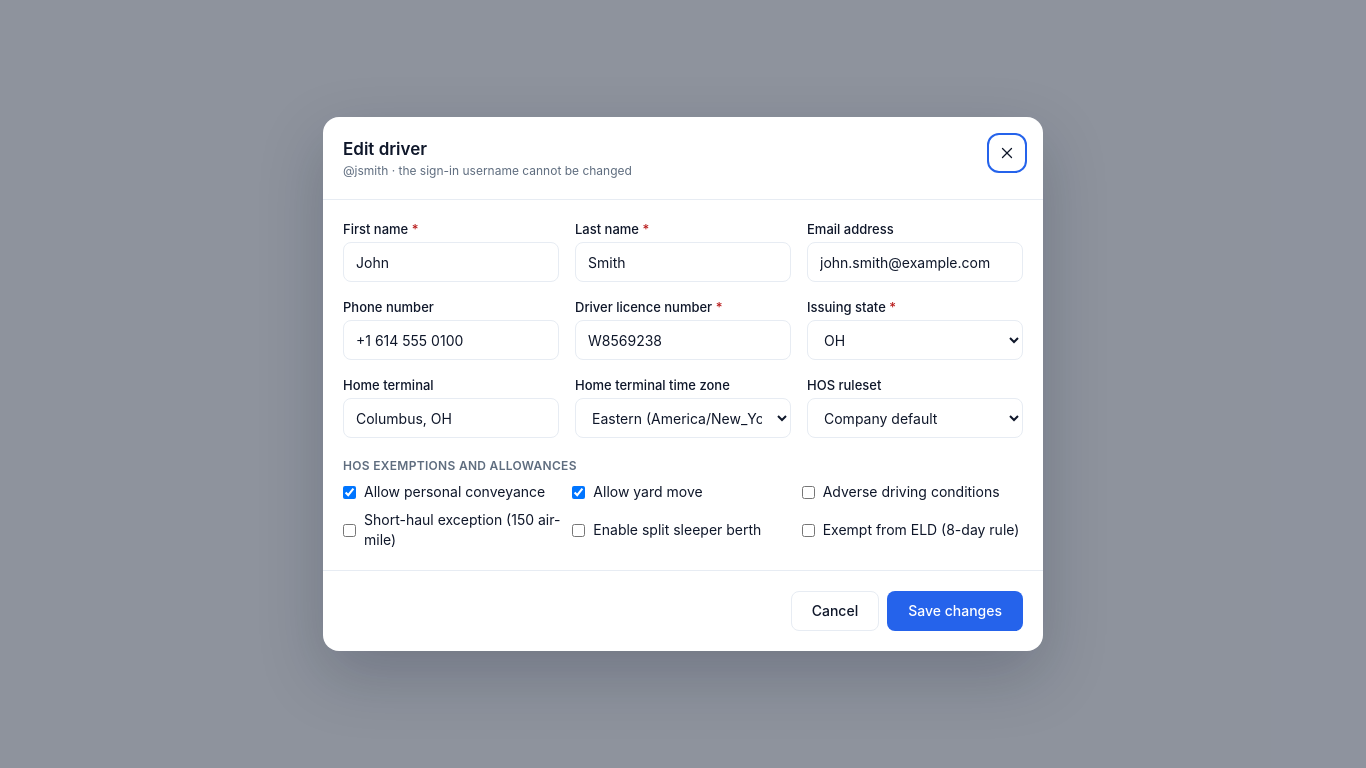
Test: W-07 Edit driver — licence › an empty licence number is required
Clear the field labelled "Driver licence number *" at (683, 340), box [575, 320, 791, 360]
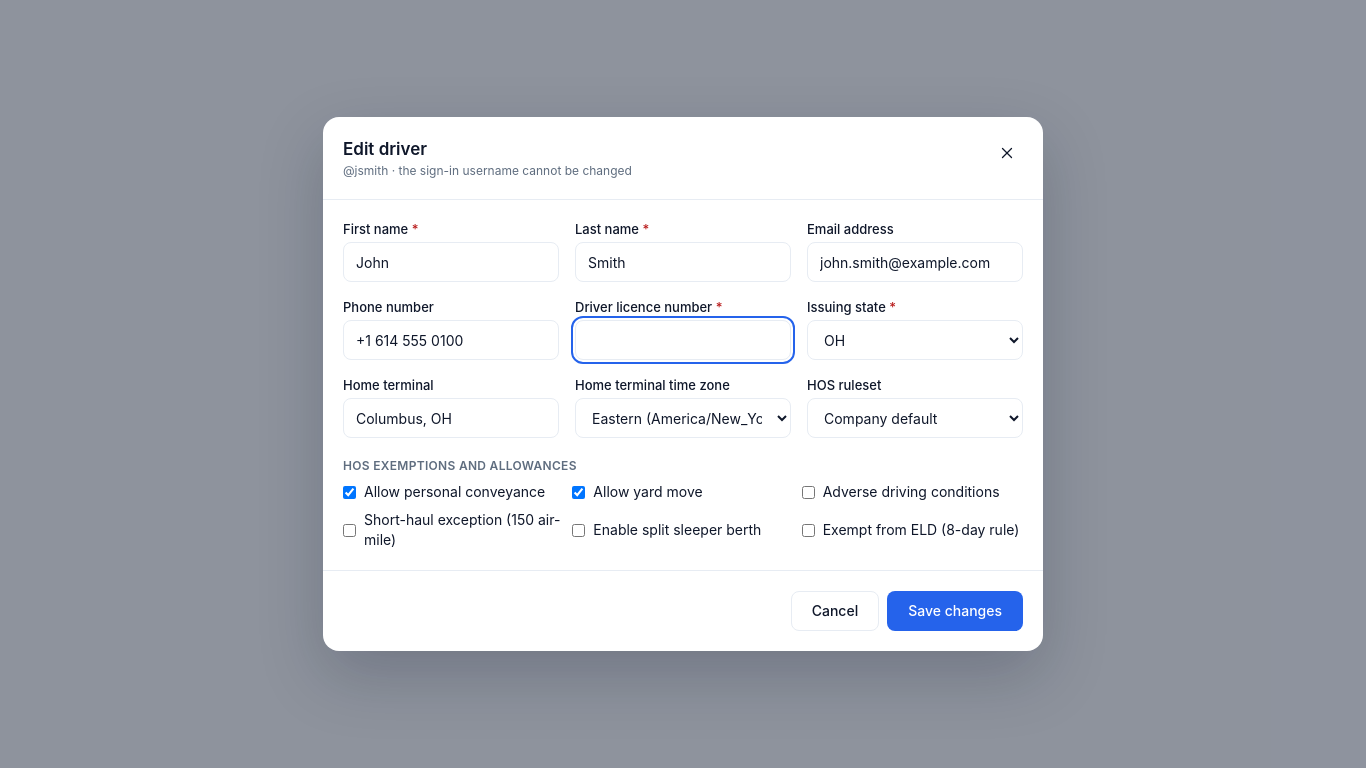
Press Tab
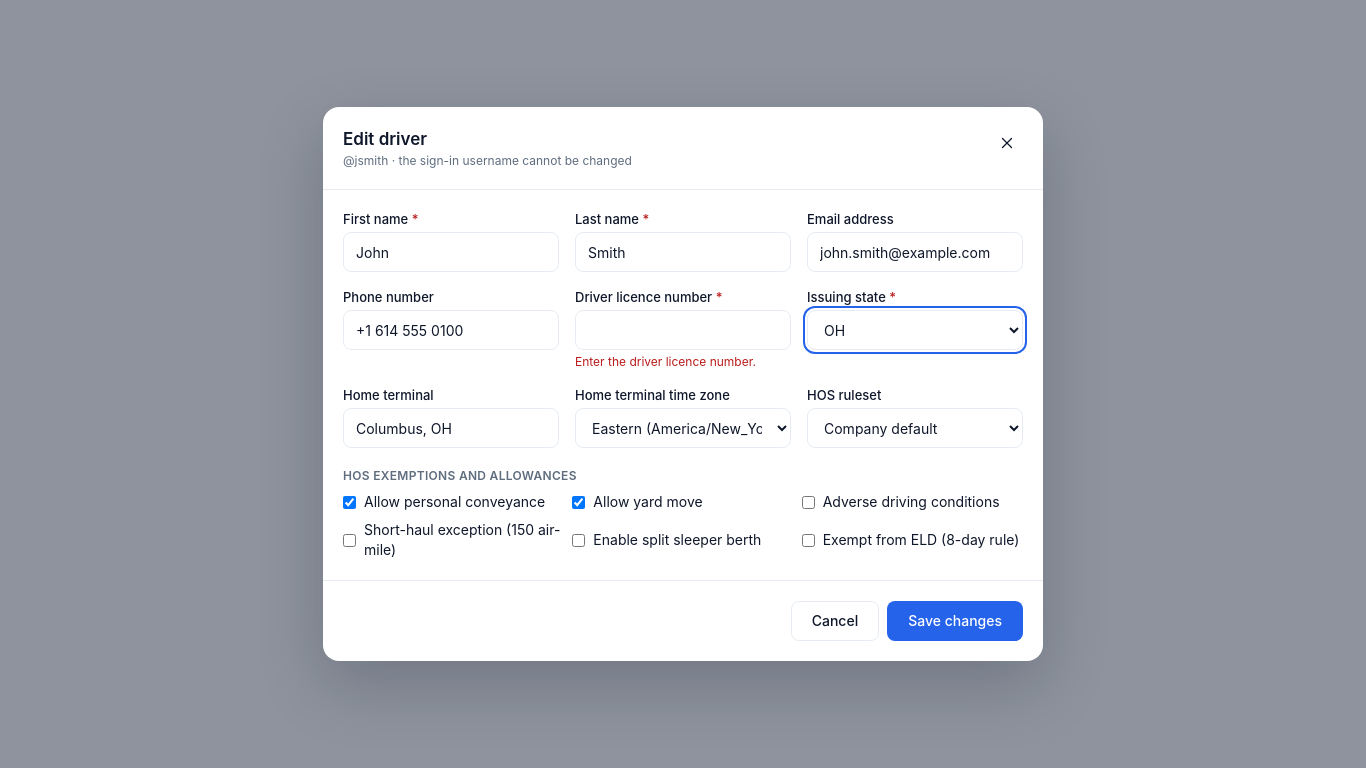
Expected: the text "Enter the driver licence number." is shown, [575, 354, 756, 369]
